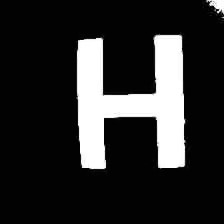LTR_H: (63, 19, 206, 189)
